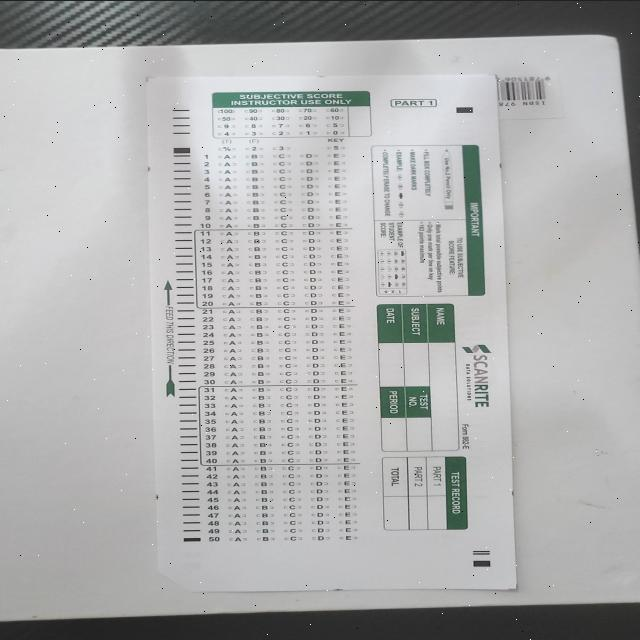scantron: (142, 73, 517, 592)
